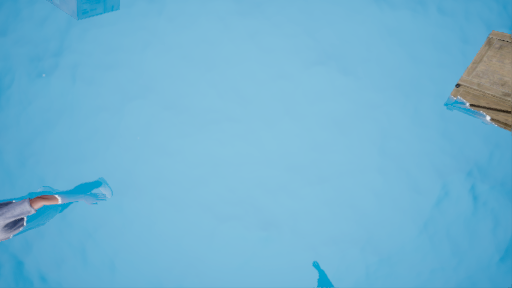person: (1, 182, 115, 243)
